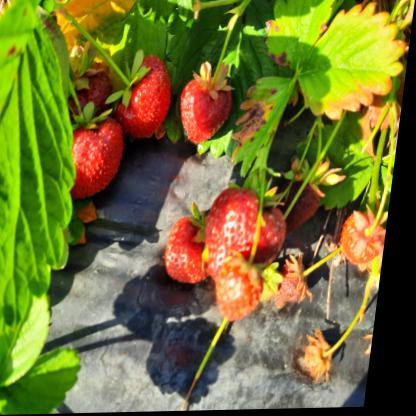ripe: (214, 187, 290, 271), (69, 119, 128, 204), (179, 79, 238, 150), (124, 59, 176, 128), (168, 215, 217, 286), (220, 259, 273, 320), (349, 215, 392, 268)
